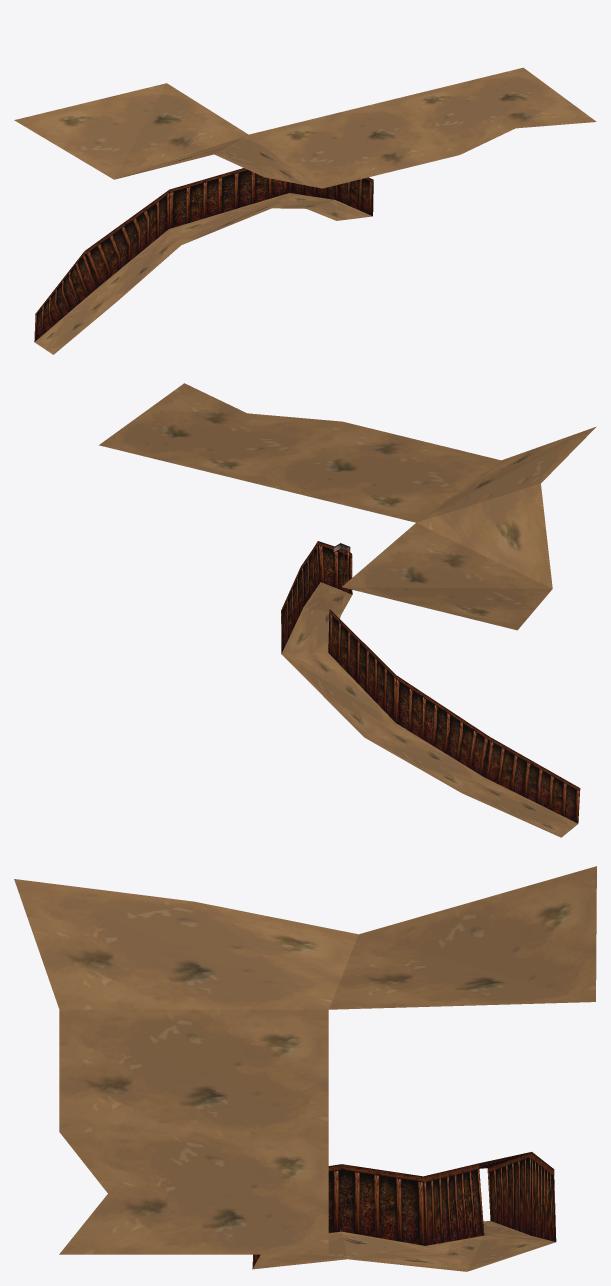
3 views of the same model, one above another, from view 1: azimuth 30°, elevation 25°; view 2: azimuth 150°, elevation 25°; view 3: azimuth 270°, elevation 25° (orthographic). The views are drawn at different scales.
Visible parts, largest first — view 1: Plane01; view 2: Plane01; view 3: Plane01.
Boxes of the visible parts, x1,y1,x2,y2 form: Plane01: (14, 67, 596, 354); Plane01: (99, 383, 596, 837); Plane01: (14, 866, 596, 1271).
Size of the model in its own units: 7443 by 3788 by 4629.
Materials: 6 (6 with a texture image).
